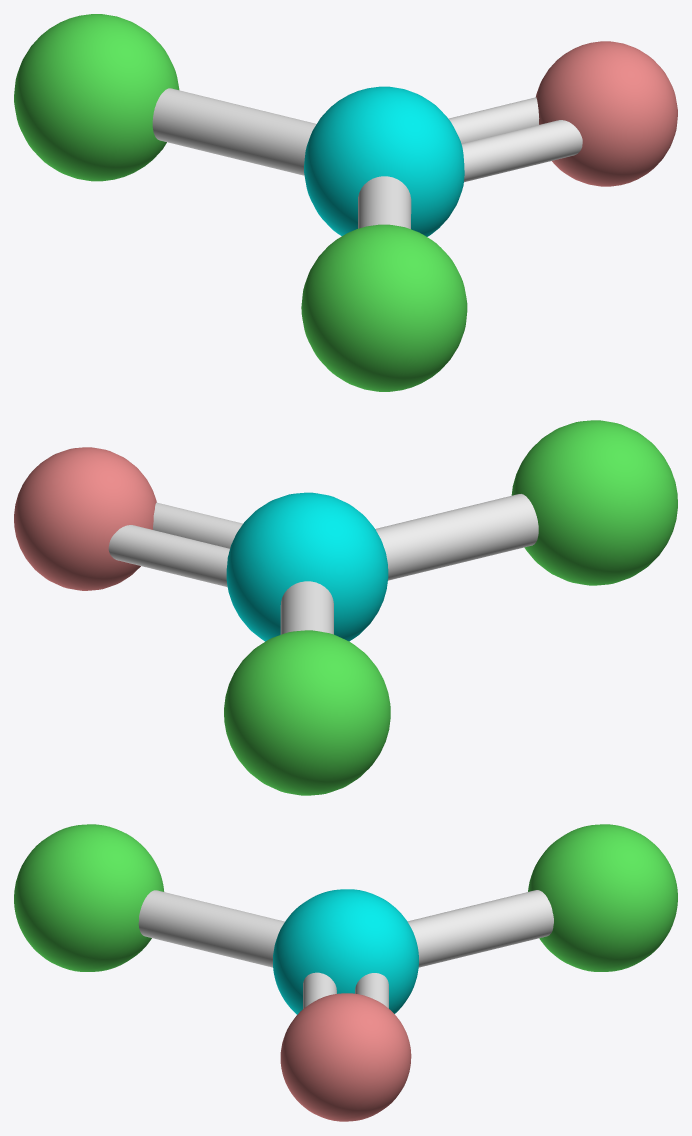
Rendered from COCl2.fbx.
3 views of the same model, one above another, from view 1: azimuth 30°, elevation 25°; view 2: azimuth 150°, elevation 25°; view 3: azimuth 270°, elevation 25° (orthographic). The views are drawn at different scales.
Parts seen in each view (by area): view 1: COCl2; view 2: COCl2; view 3: COCl2.
Boxes of the visible parts, left/top/right/bottom form: COCl2: left=14, top=14, right=677, bottom=391; COCl2: left=14, top=420, right=677, bottom=795; COCl2: left=14, top=824, right=677, bottom=1121.
Bounding box in the file's own units: 2.97 × 0.8546 × 3.83.
